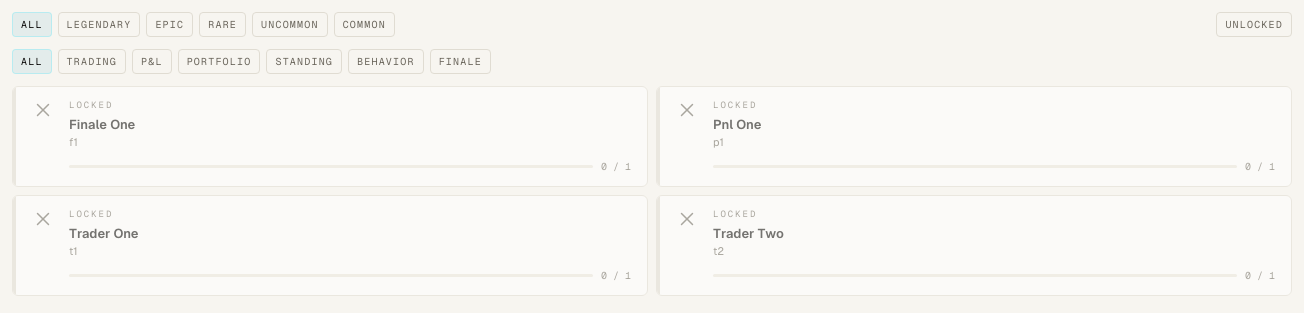
Scenario: AchievementGrid category filter › filters displayed cards to the selected category
The image size is (1304, 313).
Expected: the text "Trader One" is shown, x1=69 y1=226 x2=139 y2=240
Expected: the text "Pnl One" is shown, x1=713 y1=116 x2=762 y2=132
Click the button "Trading": (92, 62) x1=58 y1=49 x2=126 y2=74
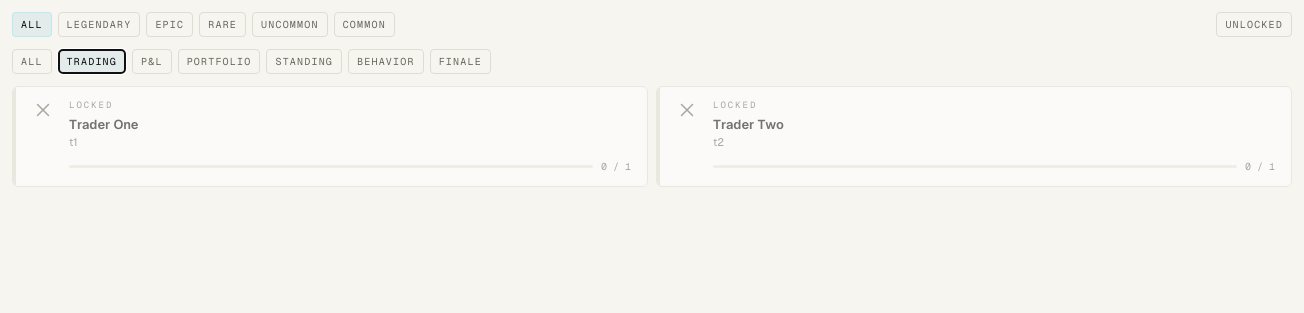
Expected: the text "Trader One" is shown, x1=69 y1=116 x2=139 y2=132
Now the text "Pnl One" is gone
Now the text "Finale One" is gone
